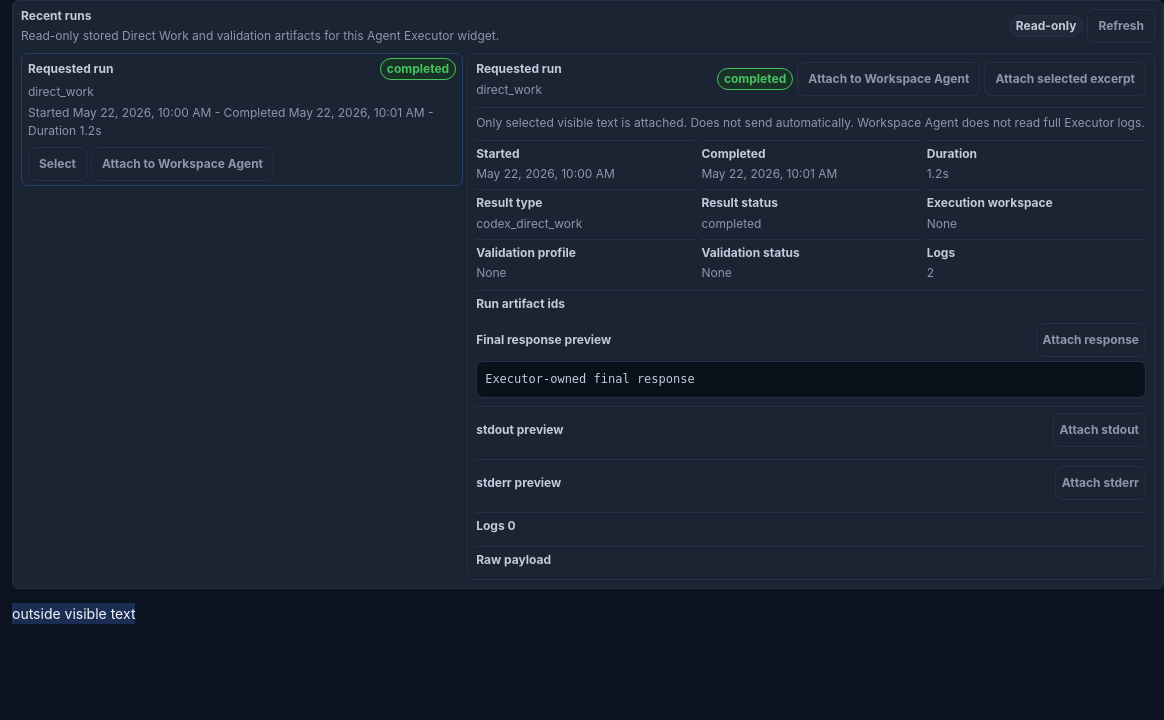
Test: AgentExecutorRunHistoryPanel open-run detail handoff › does not attach when the selection is empty or outside the run detail
The width and height of the screenshot is (1164, 720).
Click the button "Attach selected excerpt" at {"x": 1065, "y": 79}, box x1=984 y1=62 x2=1146 y2=96
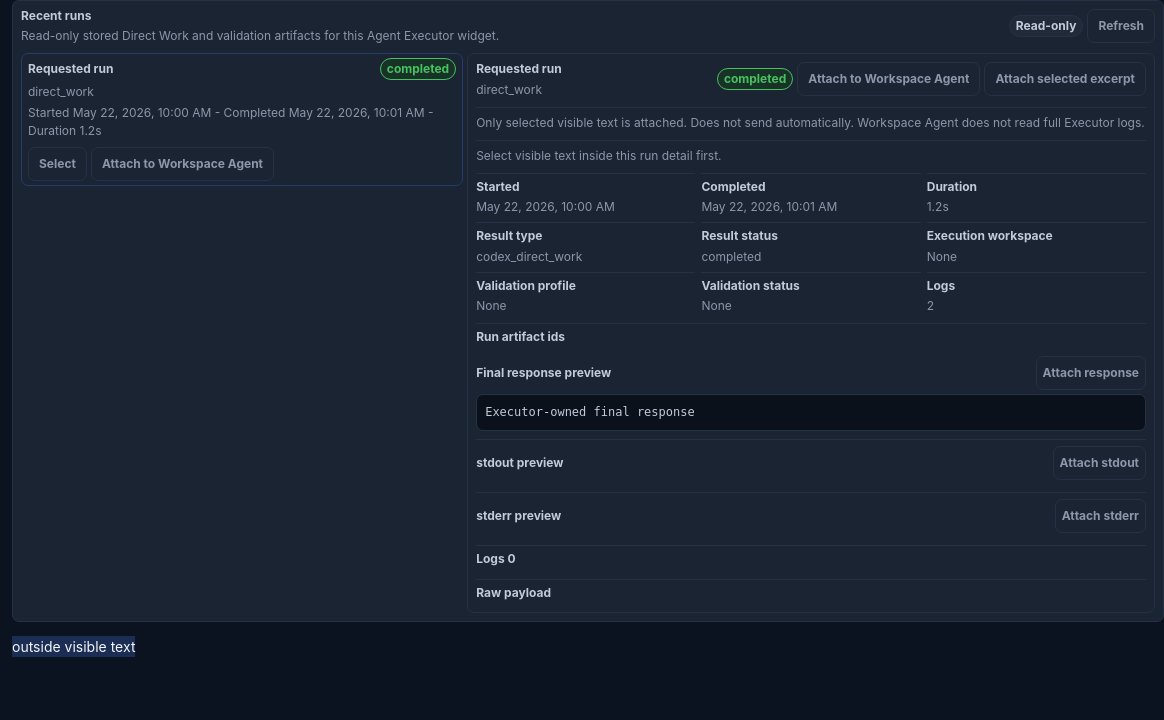
Result: the text "Select visible text inside this run detail first." is shown at x1=476 y1=140 x2=1146 y2=165
